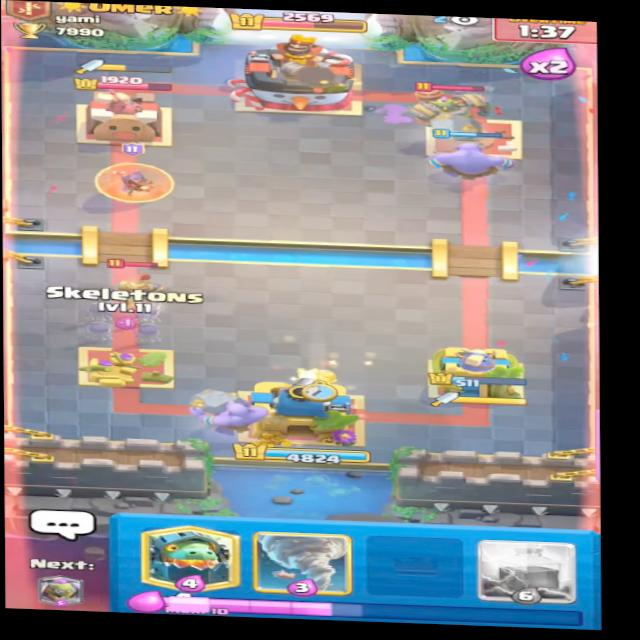evo-wizard: (90, 149, 177, 215)
goblin-machine: (392, 70, 497, 144)
prince: (107, 256, 166, 320)
